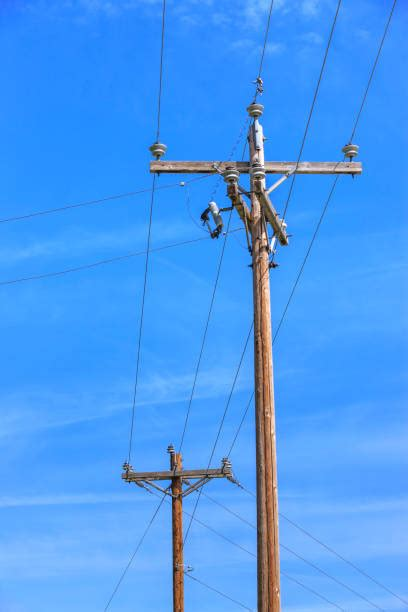pole: (142, 86, 390, 612)
